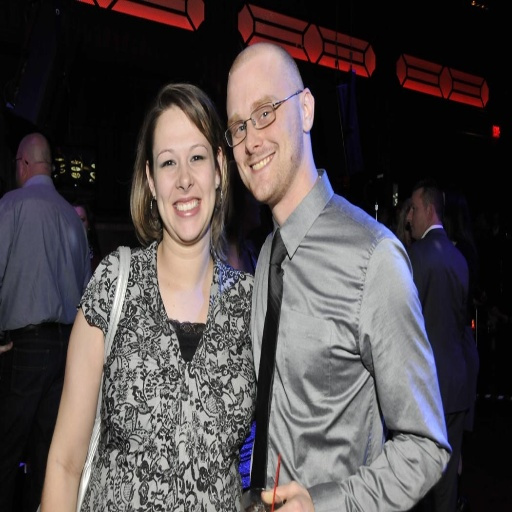hand: (259, 479, 312, 510)
